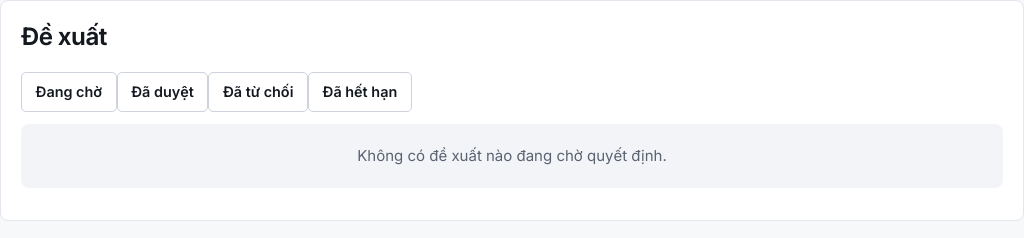
Test: ProposalList history (CP18) › says which kind of nothing it found
This screenshot has width=1024, height=238.
Check: the text "Không có đề xuất nào đang chờ quyết định." is shown, box [21,124,1003,188]
Click the button "Đã từ chối".
click(258, 92)  # box [208,72,308,112]
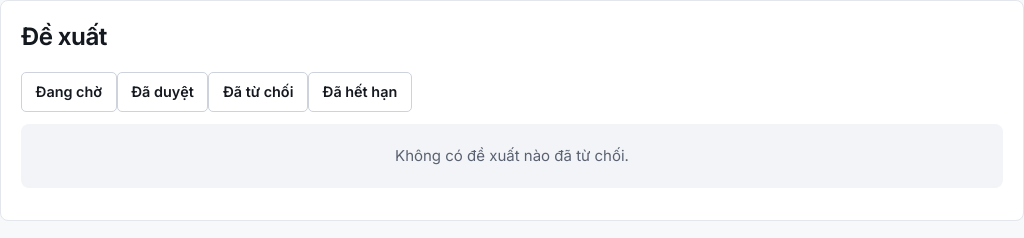
Check: the text "Không có đề xuất nào đã từ chối." is shown, box [21,124,1003,188]
